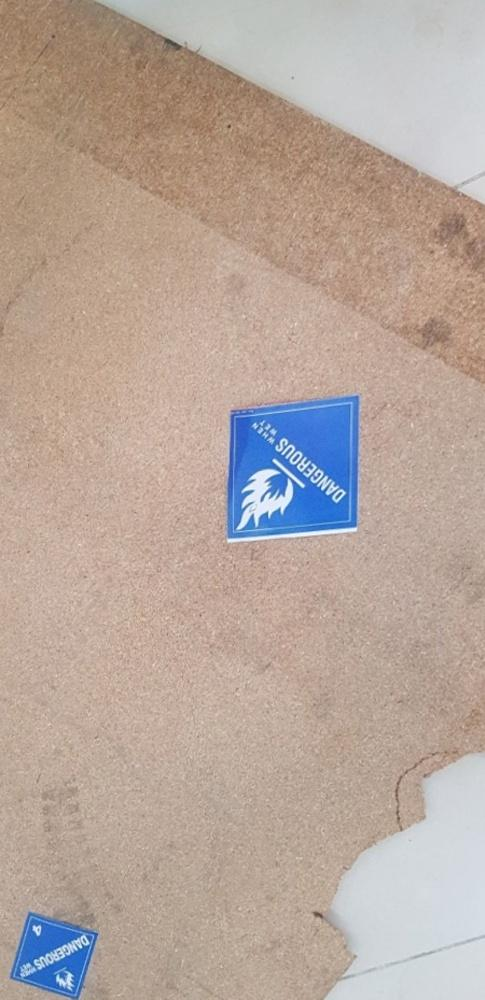dangerous-when-wet: (228, 393, 358, 537), (6, 905, 99, 1000)
